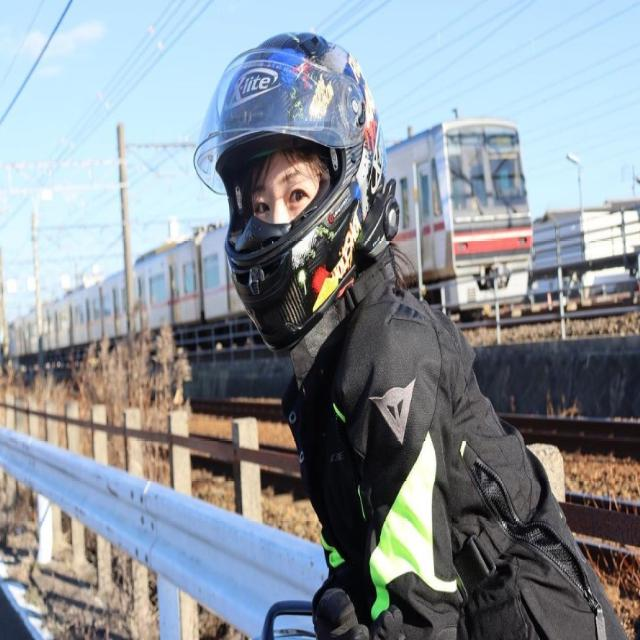helmet: (188, 24, 390, 363)
